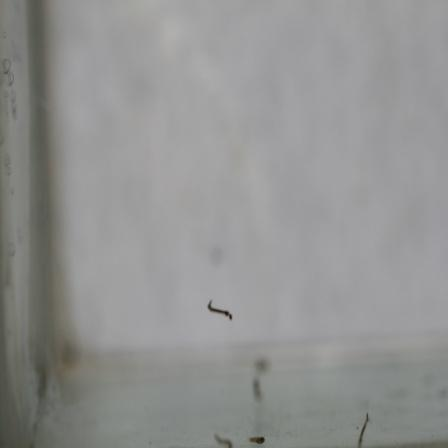Jentik-Nyamuk: (203, 297, 236, 322)
